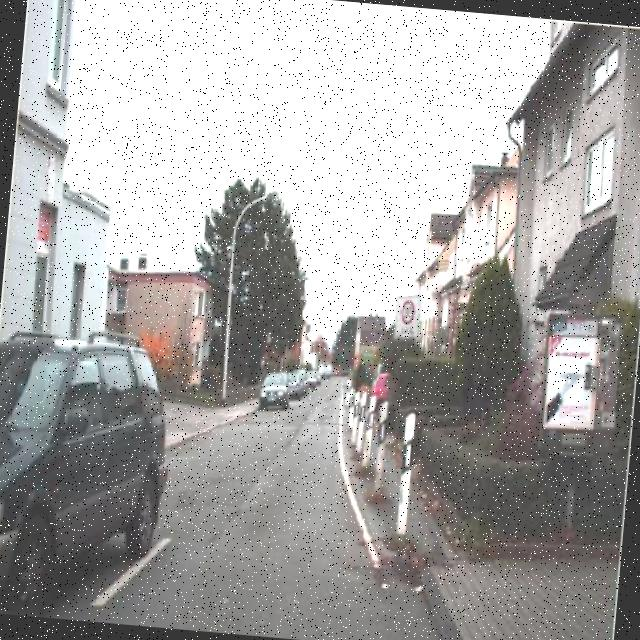Ograniczenie predkosci do 30: (398, 298, 418, 324)
